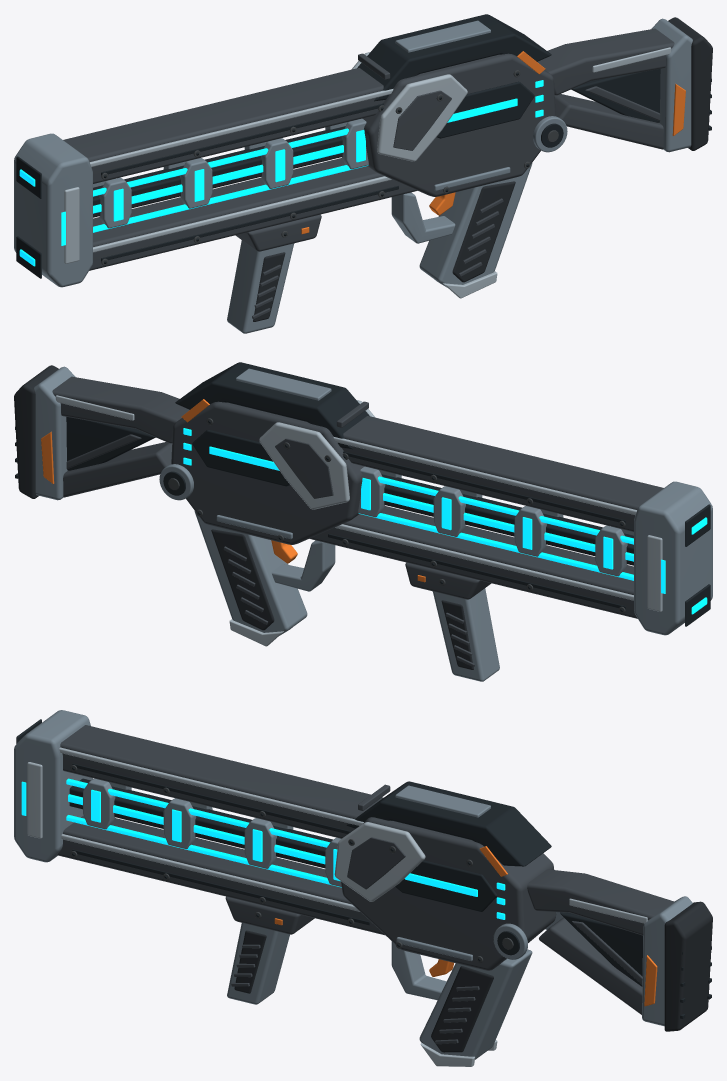
Rendered from railgun.glb.
3 renders of one model, top to bottom at view 1: azimuth 30°, elevation 25°; view 2: azimuth 150°, elevation 25°; view 3: azimuth 330°, elevation 25°, orthographic.
Parts seen in each view (by area): view 1: Graphite ceramic armor, Machined edge alloy, Recessed black alloy, Satin titanium, Cyan accelerator emission, Textured black grip, Safety orange, Dark fasteners; view 2: Graphite ceramic armor, Machined edge alloy, Recessed black alloy, Satin titanium, Cyan accelerator emission, Textured black grip, Safety orange, Dark fasteners; view 3: Graphite ceramic armor, Machined edge alloy, Recessed black alloy, Satin titanium, Textured black grip, Cyan accelerator emission, Safety orange, Dark fasteners.
Boxes of the visible parts, box(x1,y1,x2,y2) form: Graphite ceramic armor: box(63, 28, 674, 319); Machined edge alloy: box(14, 18, 692, 333); Recessed black alloy: box(16, 14, 711, 278); Satin titanium: box(64, 47, 671, 298); Cyan accelerator emission: box(19, 80, 543, 266); Textured black grip: box(253, 17, 712, 321); Safety orange: box(301, 51, 685, 234); Dark fasteners: box(101, 70, 558, 265); Graphite ceramic armor: box(52, 376, 663, 667); Machined edge alloy: box(34, 366, 712, 681); Recessed black alloy: box(15, 362, 710, 626); Satin titanium: box(55, 395, 662, 646); Cyan accelerator emission: box(183, 428, 707, 614); Textured black grip: box(14, 365, 473, 669); Safety orange: box(41, 399, 425, 582); Dark fasteners: box(168, 418, 625, 613); Graphite ceramic armor: box(57, 725, 674, 1044); Machined edge alloy: box(14, 710, 692, 1059); Recessed black alloy: box(16, 719, 711, 1018); Satin titanium: box(27, 747, 647, 1066); Textured black grip: box(234, 901, 712, 1052); Cyan accelerator emission: box(21, 778, 505, 919); Safety orange: box(274, 846, 657, 1006); Dark fasteners: box(70, 765, 513, 962).
Bounding box in the file's own units: 1.31 × 0.4773 × 0.1643.
